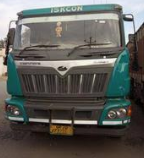truck: (2, 2, 134, 146)
